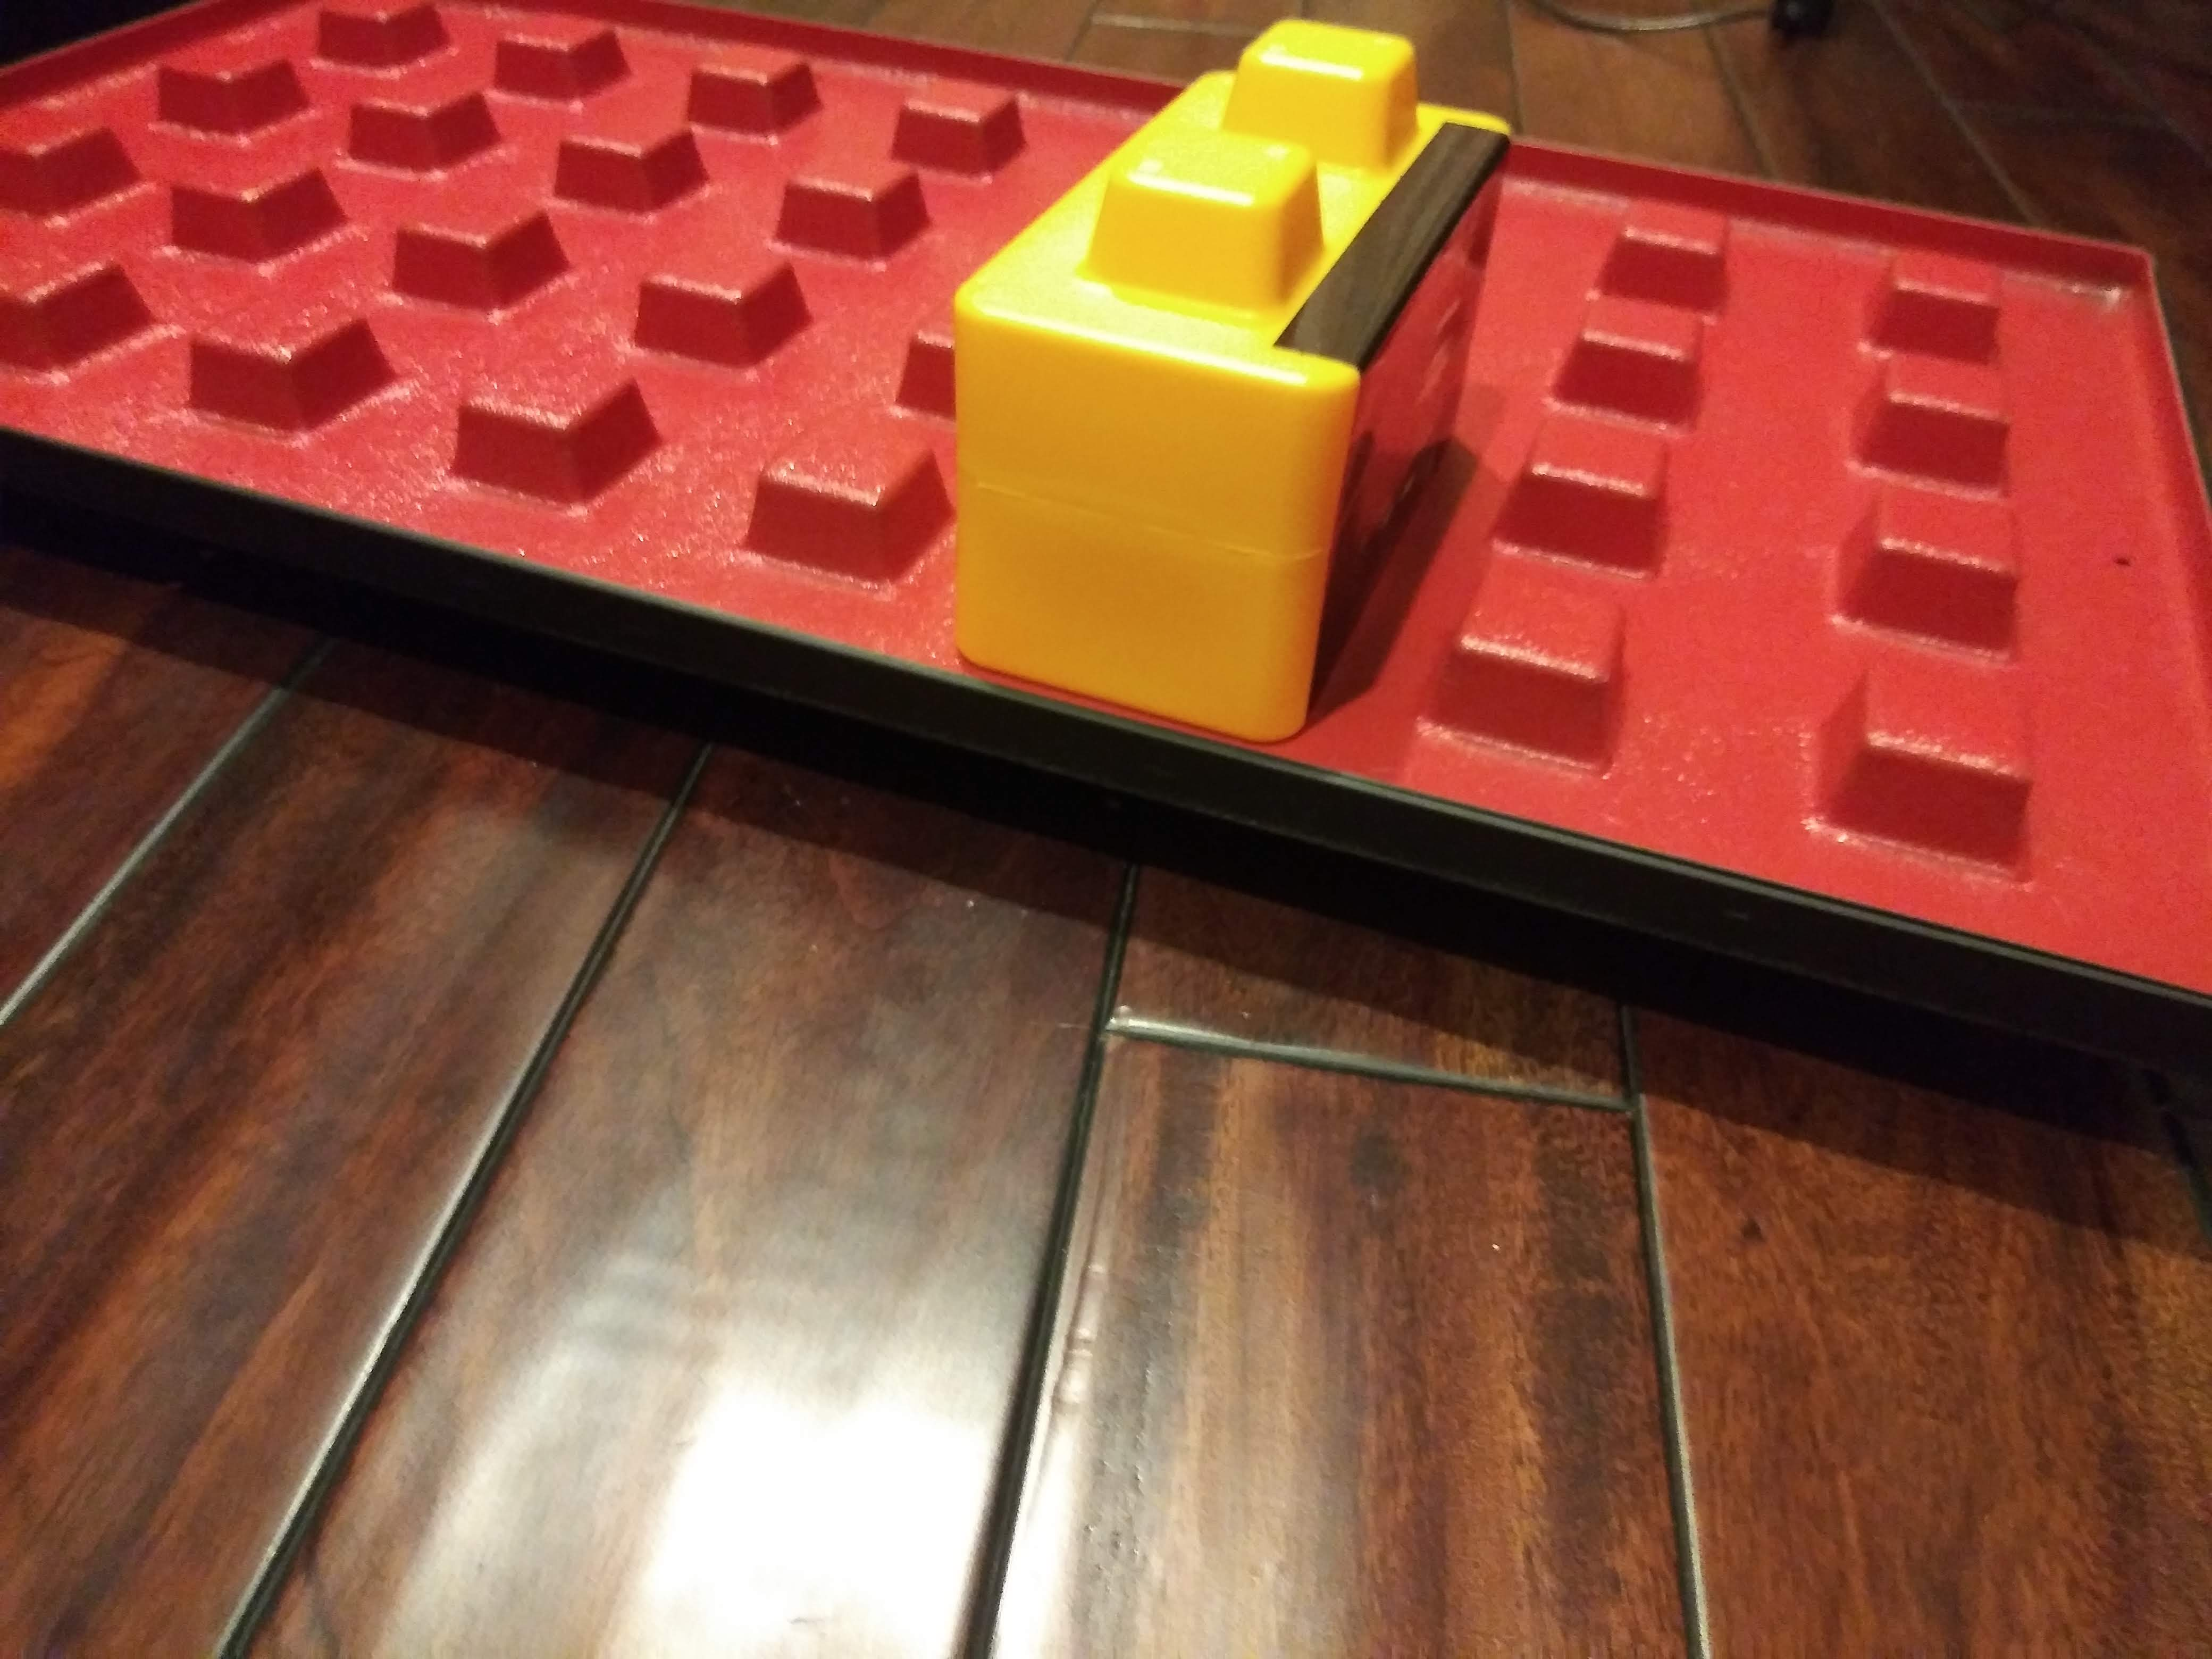red foundation: (44, 33, 2168, 1042)
